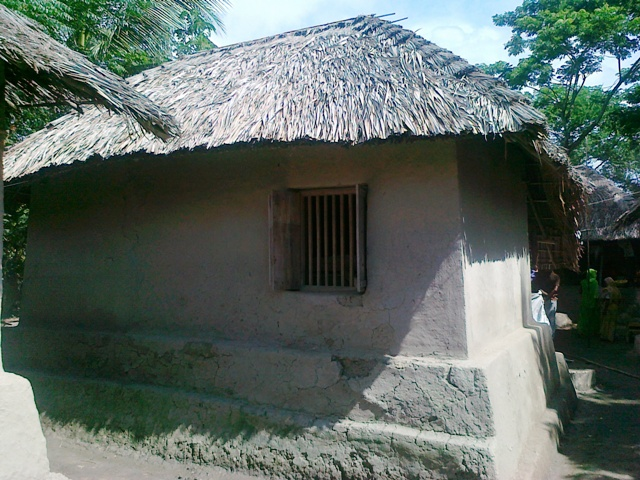Mud House: (16, 28, 591, 462)
